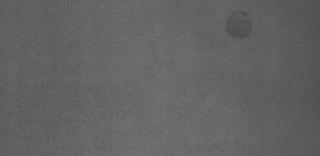oil spot: (222, 5, 254, 41)
